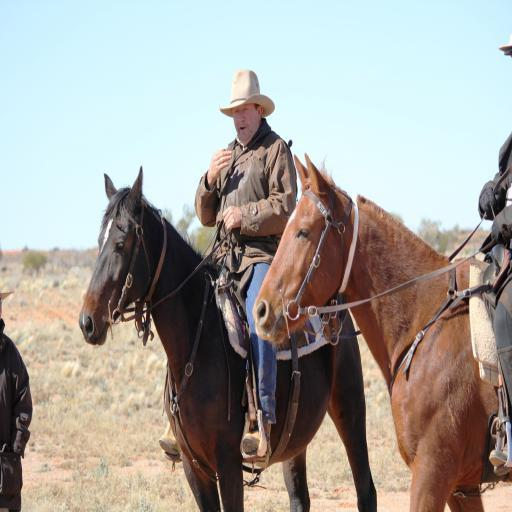horse: (76, 163, 378, 511), (253, 154, 512, 512)
